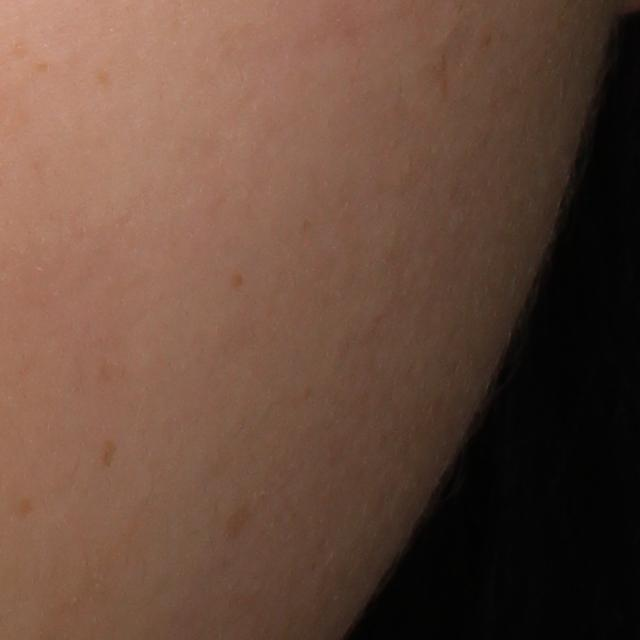melasma: (220, 495, 252, 545), (97, 439, 116, 469), (96, 68, 112, 87), (228, 270, 245, 287), (33, 61, 53, 74)
